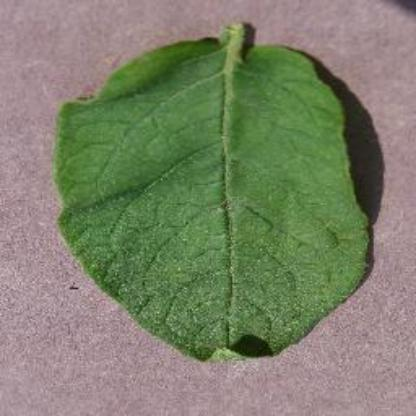Healthy-plant: (23, 16, 401, 366)
